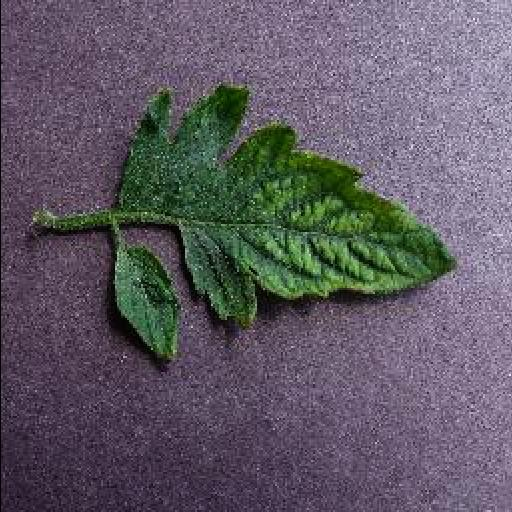disease_tomato: (102, 84, 466, 366)
